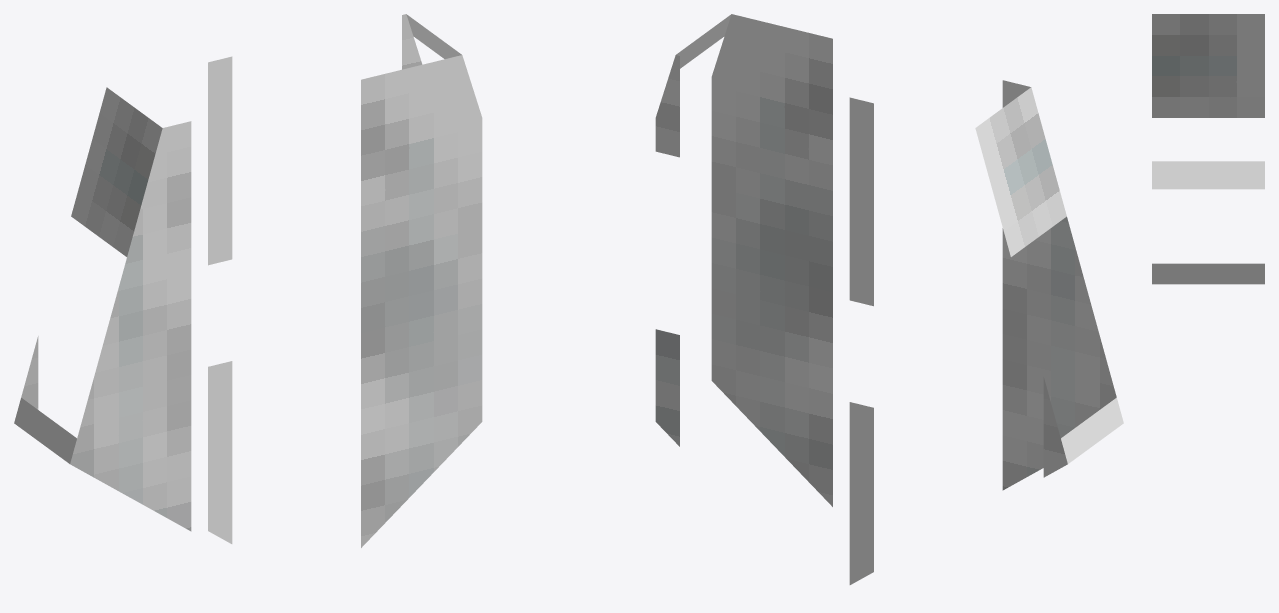
The model's file is lock.obj.
The picture shows the model from 3 angles, left to right: view 1: azimuth 30°, elevation 25°; view 2: azimuth 150°, elevation 25°; view 3: azimuth 270°, elevation 25°; orthographic projection.
Visible parts, largest first — view 1: lock; view 2: lock; view 3: lock.
Part boxes in pixels (box(x1,y1,x2,y2)): lock: box(14, 14, 482, 547); lock: box(655, 14, 1123, 584); lock: box(1152, 14, 1264, 284).
Size of the model in its own units: 0.3125 by 0.3125 by 0.0625.
